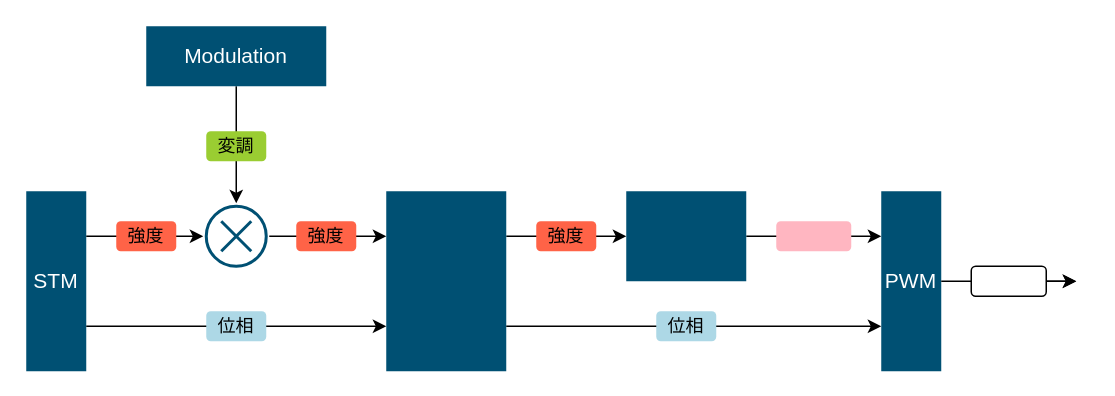
Image size: 1115x396. Some labels were removed from this diagram. Each missing label, with the centre of its shape:
Pulse Width Encoder: (686,235)
Silencer: (446,280)
パルス幅: (813,235)
駆動信号: (1008,280)
